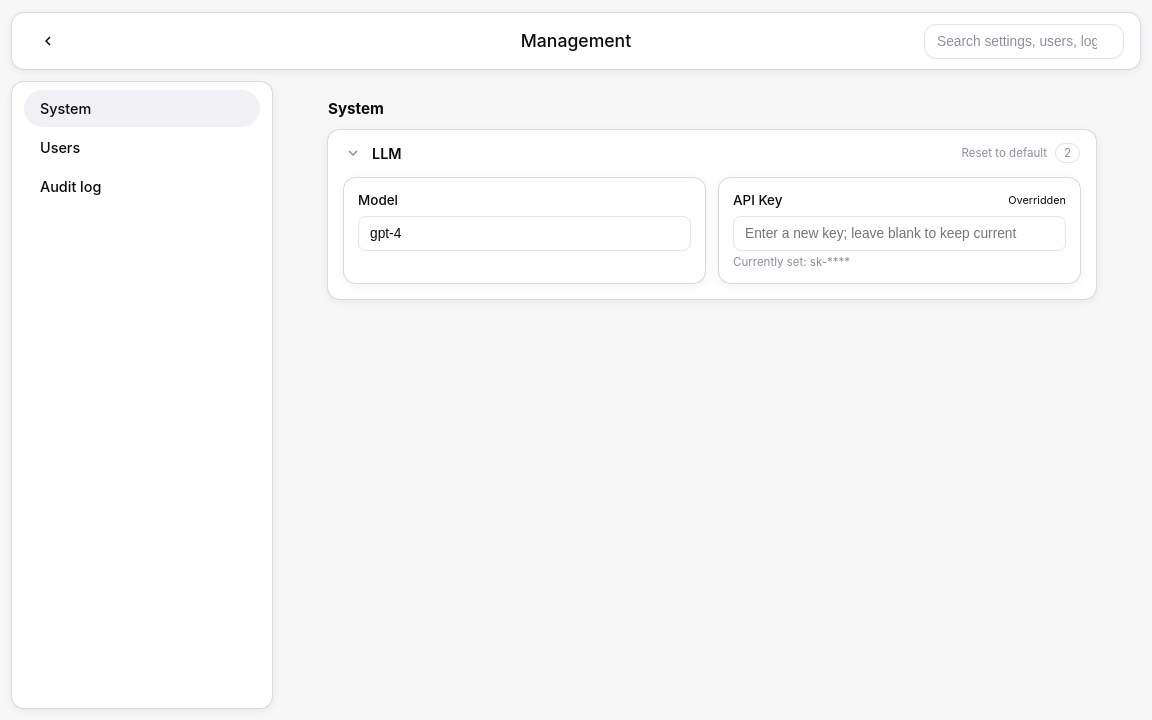
SettingsPage › filters fields by search query
This screenshot has width=1152, height=720.
Check: the heading "Management" is shown, box [521,30,631,52]
Type "llm_api_key" into the search field.
click(1024, 41); type("llm_api_key")  # box [924,24,1124,58]
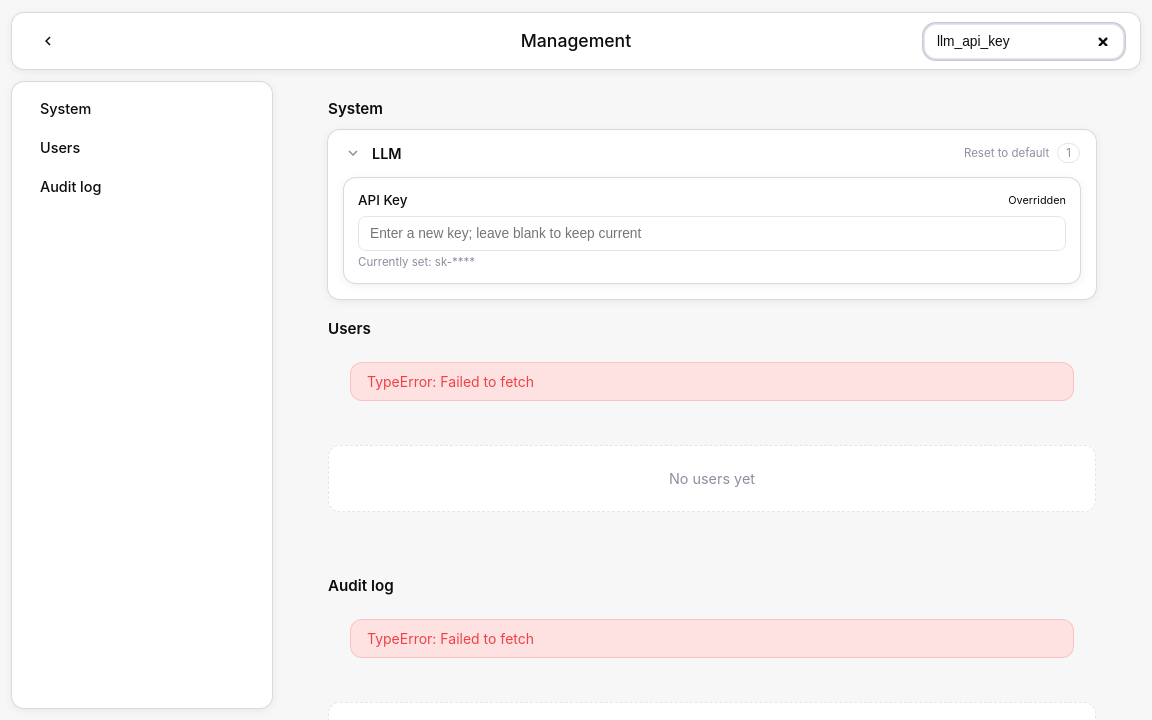
Check: the password field labelled "API Key Overridden Currently set: sk-****" is shown, box [358,216,1066,251]
Check: the text labelled "Model" is gone
